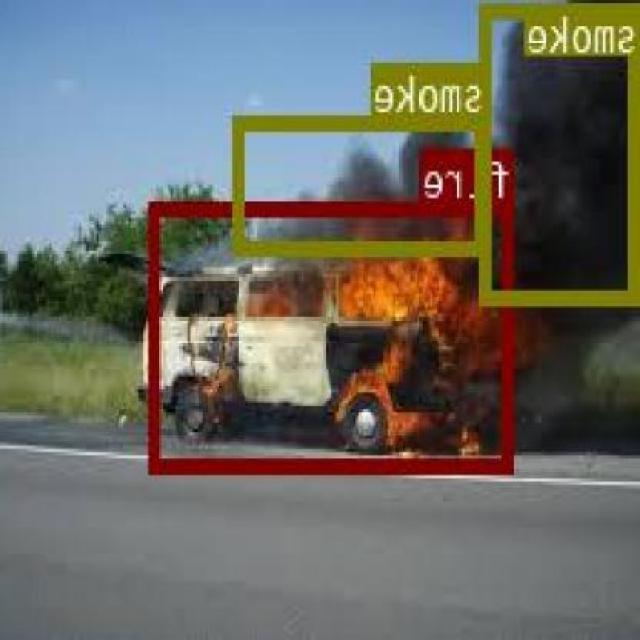Fire: (152, 201, 516, 468)
Smoke: (482, 3, 640, 303), (236, 115, 489, 252)
